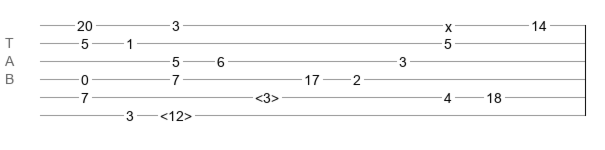0: (81, 72, 89, 82)
1: (126, 36, 134, 46)
14: (531, 18, 547, 28)
17: (304, 72, 320, 82)
18: (486, 90, 502, 100)
2: (353, 72, 361, 82)
20: (77, 18, 93, 28)
3: (126, 108, 134, 118), (172, 18, 180, 28), (399, 54, 407, 64)
4: (444, 90, 452, 100)
5: (81, 36, 89, 46), (172, 54, 180, 64), (444, 36, 452, 46)
6: (217, 54, 225, 64)
7: (81, 90, 89, 100), (172, 72, 180, 82)
harmonic: (160, 108, 192, 118), (255, 90, 279, 100)
x: (445, 19, 452, 27)
